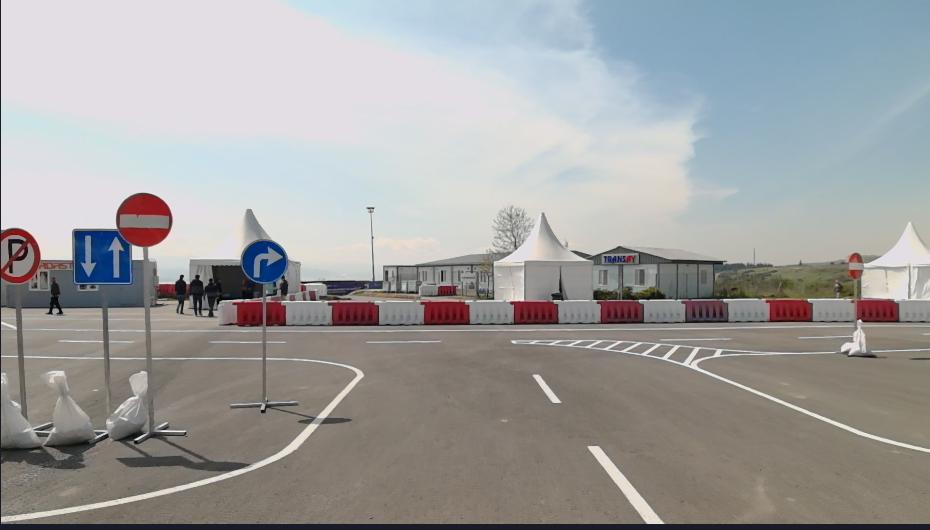nesne: (0, 323, 929, 529), (3, 325, 928, 528), (0, 337, 672, 527), (0, 353, 364, 524), (689, 349, 929, 451), (215, 296, 929, 327), (585, 444, 667, 528), (42, 368, 98, 445), (112, 192, 176, 248), (104, 369, 153, 441), (0, 371, 45, 449), (239, 237, 291, 283), (1, 228, 41, 287), (235, 298, 286, 328), (372, 299, 424, 326), (463, 298, 516, 324), (284, 298, 333, 326), (551, 297, 601, 324), (327, 299, 378, 325), (806, 295, 857, 320), (637, 296, 684, 323), (678, 297, 728, 322), (595, 296, 643, 321), (421, 298, 468, 323), (509, 298, 556, 323), (761, 297, 812, 320), (840, 316, 869, 356), (854, 298, 899, 322), (722, 298, 768, 321), (530, 372, 560, 404), (894, 295, 929, 321), (172, 273, 189, 313), (46, 275, 62, 313), (187, 272, 201, 315), (845, 250, 865, 280), (56, 337, 134, 344), (204, 276, 216, 317), (364, 338, 444, 344), (218, 299, 237, 324), (210, 339, 287, 344), (417, 281, 438, 296), (439, 283, 457, 297)
